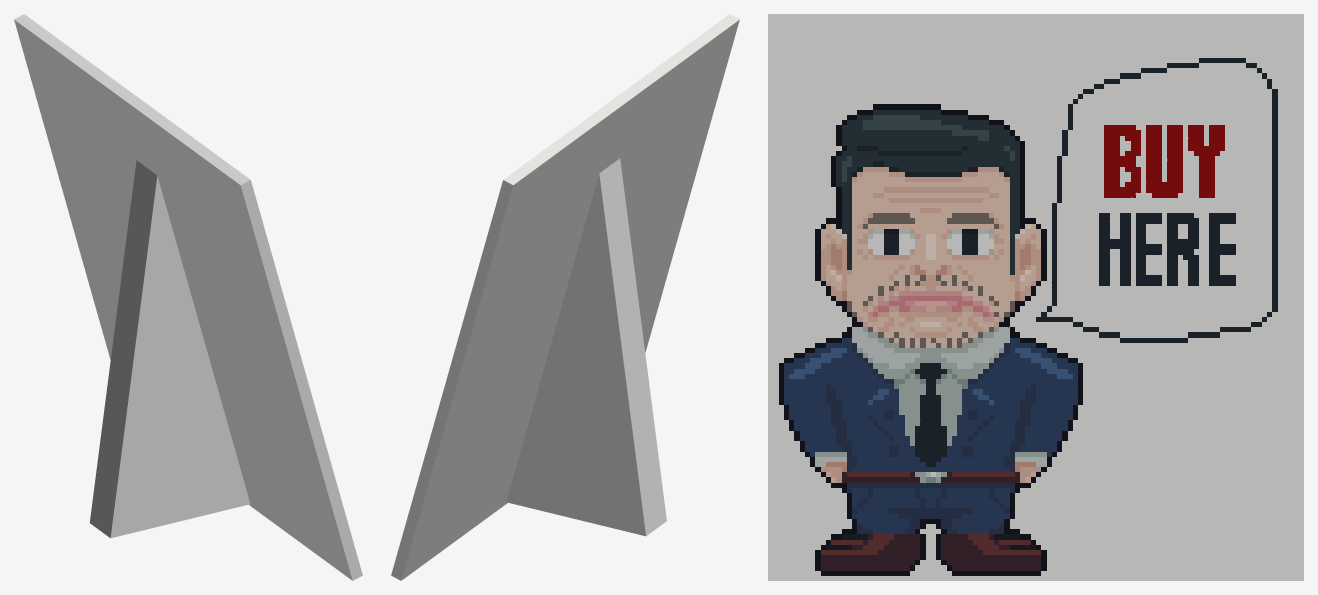
File: eloncutout.glb
The picture shows the model from 3 angles, left to right: view 1: azimuth 30°, elevation 25°; view 2: azimuth 150°, elevation 25°; view 3: azimuth 270°, elevation 25°; orthographic projection. The views are drawn at different scales.
Visible parts, largest first — view 1: ELON; view 2: ELON; view 3: ELON.
Boxes of the visible parts, x1,y1,x2,y2 form: ELON: (14, 14, 362, 580); ELON: (391, 14, 739, 580); ELON: (768, 14, 1303, 580).
Size of the model in its own units: 0.3596 by 0.9704 by 0.9358.
Materials: 2 (1 with a texture image).
